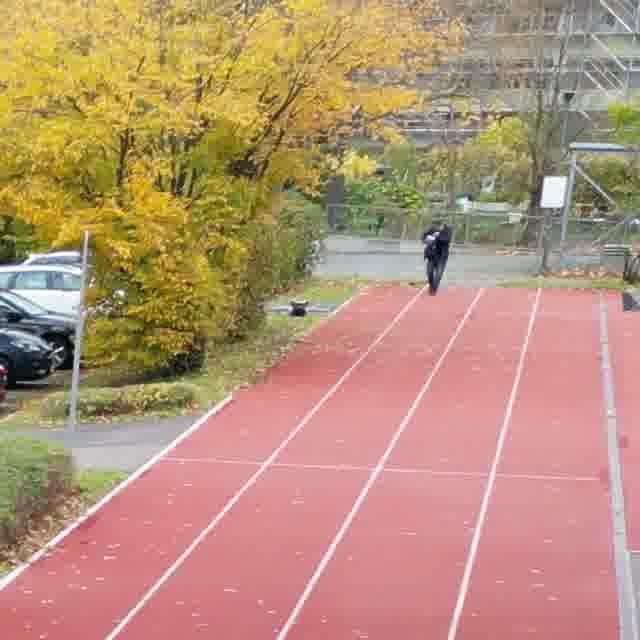Drohne: (271, 300, 333, 316)
